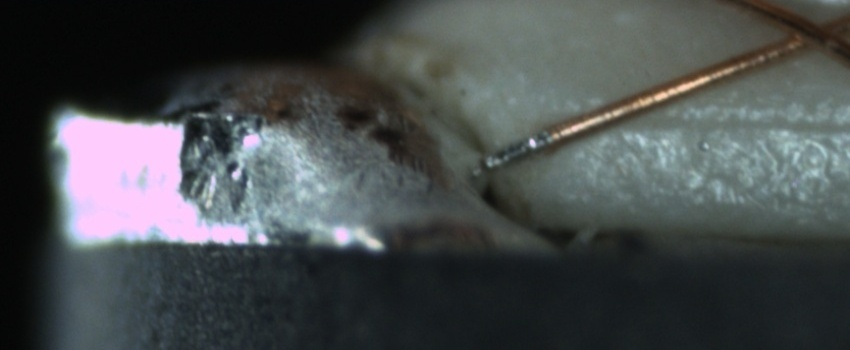CL: (761, 3, 847, 61)
DL: (610, 89, 846, 155)
TS: (480, 129, 547, 173)
